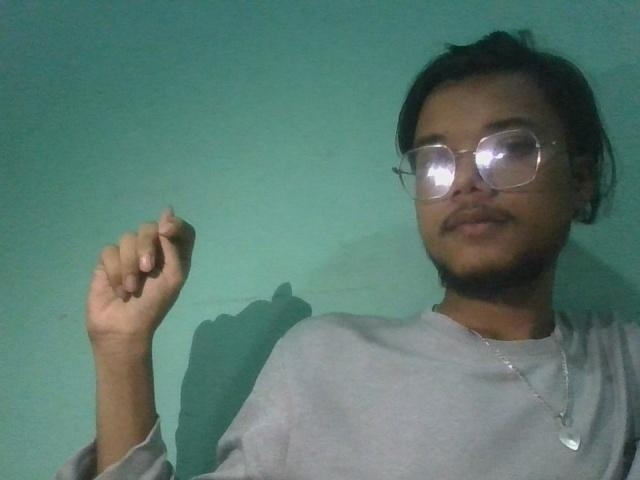Washroom: (67, 194, 206, 357)
